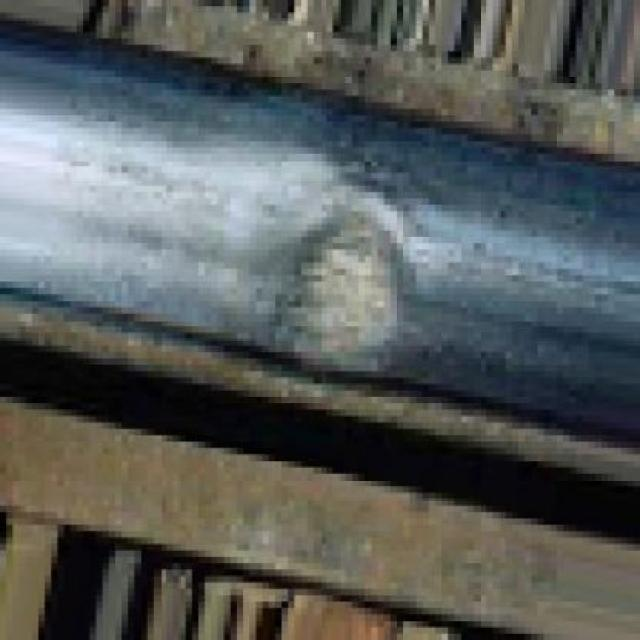defective: (127, 28, 640, 583)
